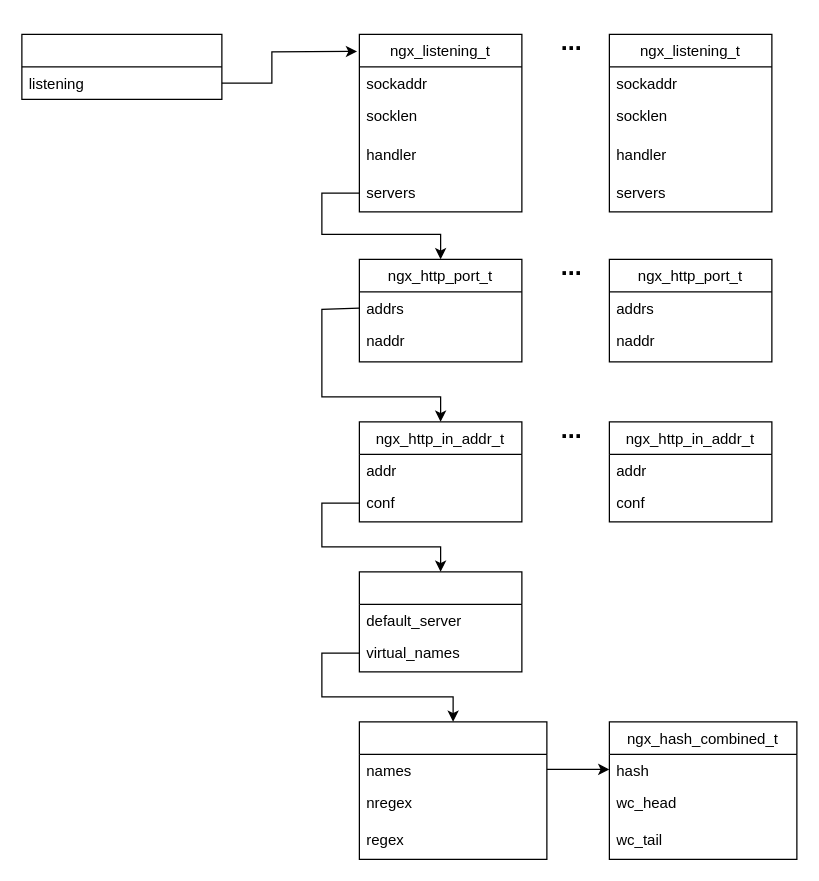
Image size: 819x881. Some labels were removed from this diagram. The box of each missing label's shape, as (x1, y1, x2, y2) in pixels:
ngx_cycle_t: (21, 33, 222, 99)
ngx_http_addr_conf_t: (358, 571, 522, 672)
ngx_http_virtual_names_t: (358, 721, 547, 859)
